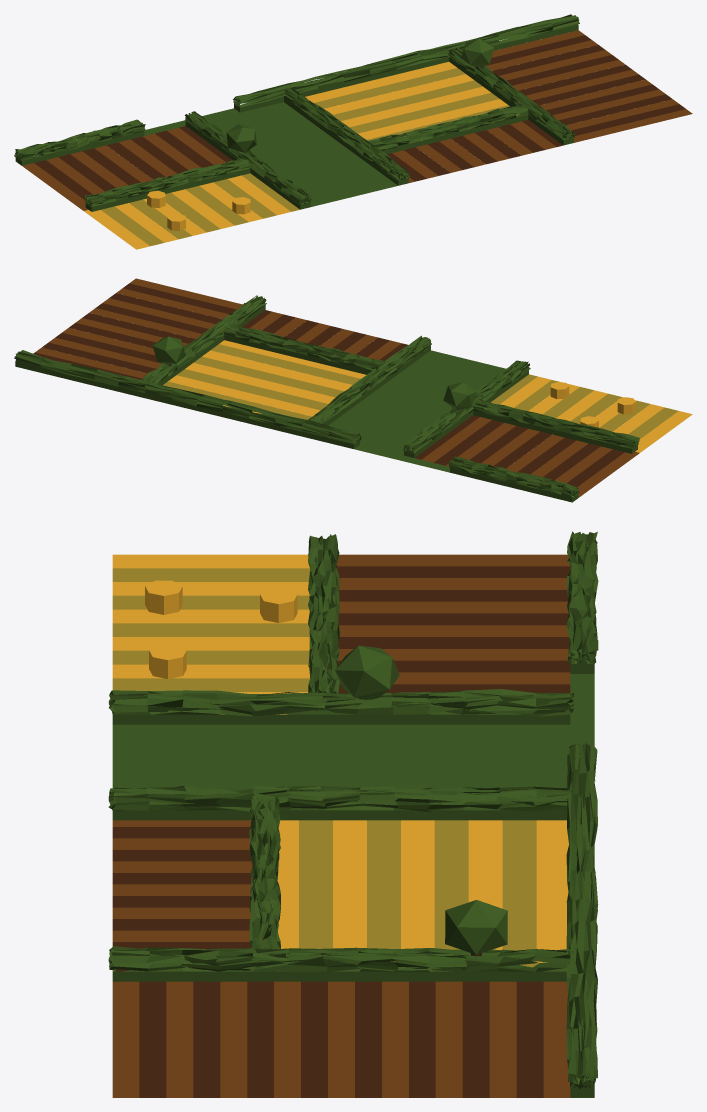
File: fieldsA.glb
3 views of the same model, one above another, from view 1: azimuth 30°, elevation 25°; view 2: azimuth 150°, elevation 25°; view 3: azimuth 270°, elevation 25° (orthographic). The views are drawn at different scales.
Parts seen in each view (by area): view 1: P31, H82, H30, H58, H59, H77, H32, H81, P57, P56, P52, P51 (+60 smaller); view 2: P31, H82, H30, H58, H59, H32, H81, H77, P54, P55, P53, P51 (+47 smaller); view 3: P31, H77, H32, H59, H82, H30, H58, P56, P52, P50, P53, P51 (+62 smaller).
Boxes of the visible parts, left/top/right/bottom form: P31: left=207, top=102, right=397, bottom=206; H82: left=233, top=14, right=579, bottom=112; H30: left=84, top=157, right=251, bottom=211; H58: left=367, top=103, right=528, bottom=154; H59: left=283, top=88, right=410, bottom=185; H77: left=448, top=47, right=575, bottom=145; H32: left=185, top=111, right=311, bottom=209; H81: left=14, top=119, right=145, bottom=165; P57: left=305, top=62, right=456, bottom=102; P56: left=314, top=68, right=465, bottom=108; P52: left=349, top=92, right=499, bottom=133; P51: left=358, top=99, right=507, bottom=139; P31: left=328, top=350, right=505, bottom=455; H82: left=14, top=350, right=361, bottom=448; H30: left=472, top=399, right=639, bottom=453; H58: left=223, top=324, right=385, bottom=374; H59: left=308, top=335, right=431, bottom=425; H32: left=403, top=360, right=530, bottom=457; H81: left=448, top=456, right=579, bottom=502; H77: left=141, top=295, right=266, bottom=385; P54: left=177, top=369, right=328, bottom=410; P55: left=168, top=375, right=320, bottom=416; P53: left=185, top=363, right=335, bottom=403; P51: left=202, top=350, right=352, bottom=391; P31: left=112, top=724, right=570, bottom=807; H77: left=108, top=946, right=573, bottom=981; H32: left=108, top=689, right=574, bottom=724; H59: left=108, top=785, right=572, bottom=820; H82: left=566, top=742, right=598, bottom=1097; H30: left=308, top=534, right=339, bottom=693; H58: left=249, top=796, right=280, bottom=949; P56: left=502, top=820, right=536, bottom=967; P52: left=367, top=820, right=400, bottom=961; P50: left=299, top=820, right=332, bottom=948; P53: left=401, top=820, right=434, bottom=948; P51: left=333, top=820, right=366, bottom=948.
Size of the model in its own units: 16.1 by 1.06 by 6.1.
